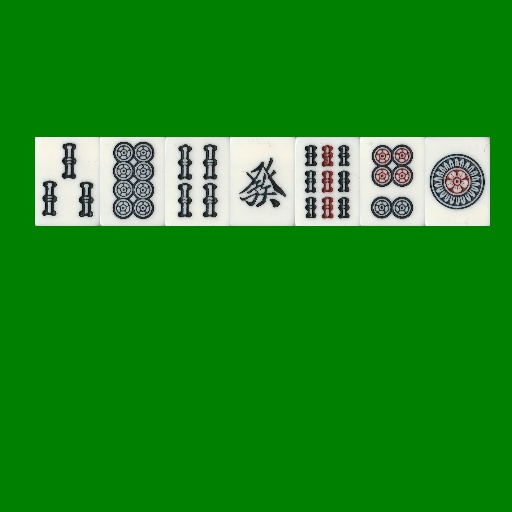1p: (425, 137, 490, 226)
3s: (35, 137, 100, 226)
4s: (165, 137, 230, 226)
6p: (360, 137, 425, 226)
8p: (100, 137, 165, 226)
9s: (295, 137, 360, 226)
hatsu: (230, 137, 295, 226)
